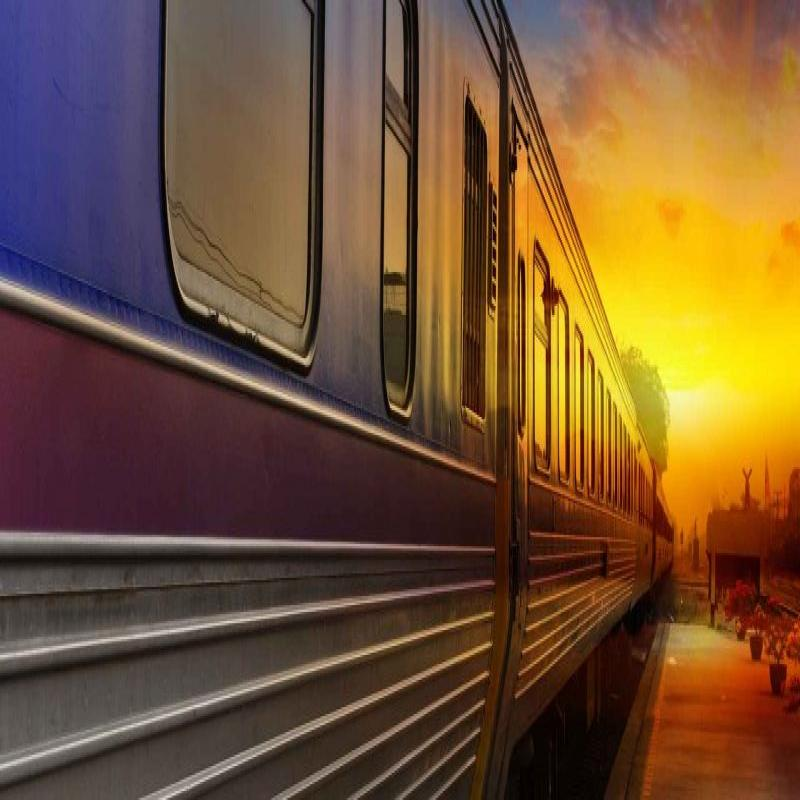train: (2, 0, 646, 776)
